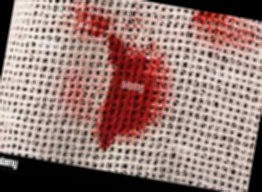blood: (92, 38, 176, 155), (187, 10, 237, 45), (72, 8, 113, 42)
